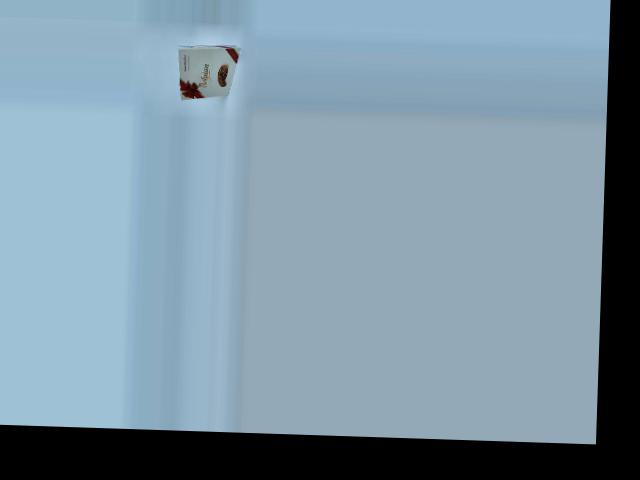chocolate: (178, 31, 243, 103)
